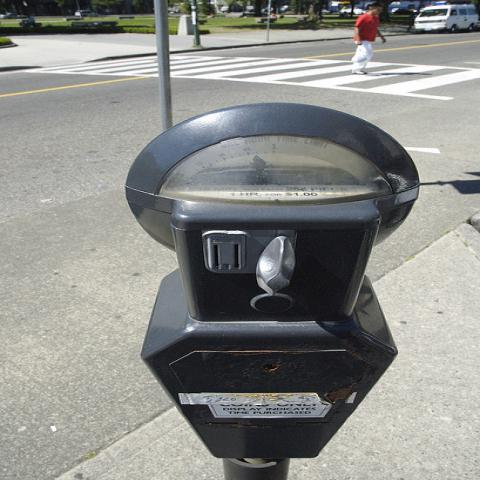car: (75, 10, 98, 17)
truck: (411, 3, 478, 30)
